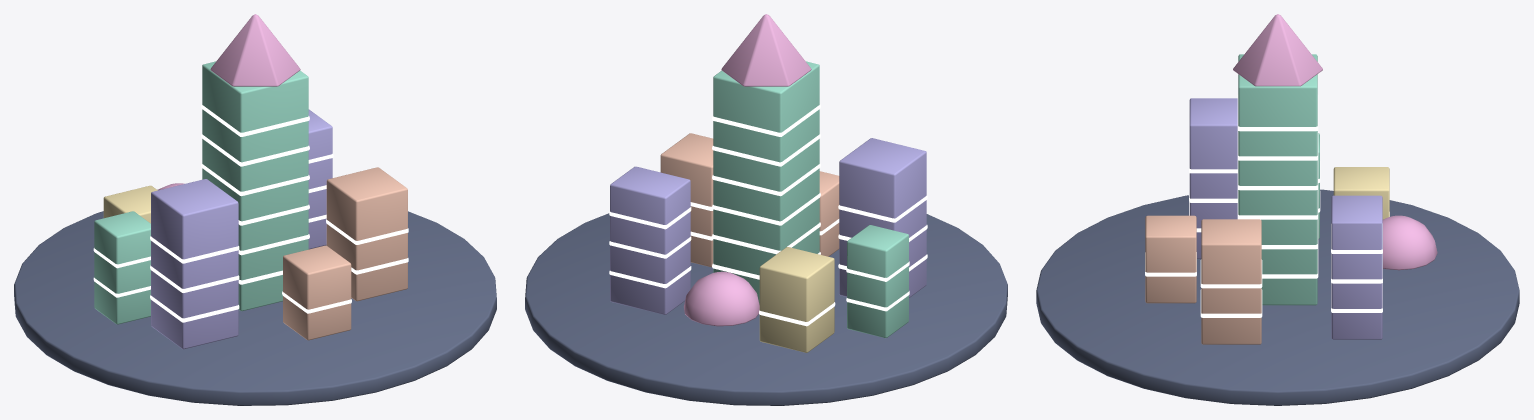
The model's file is campus.glb.
3 renders of one model, left to right at view 1: azimuth 30°, elevation 25°; view 2: azimuth 150°, elevation 25°; view 3: azimuth 270°, elevation 25°, orthographic.
Parts seen in each view (by area): view 1: Campus; view 2: Campus; view 3: Campus.
Part boxes in pixels (box(x1,y1,x2,y2)): Campus: box(14, 14, 496, 405); Campus: box(525, 14, 1007, 405); Campus: box(1036, 14, 1519, 405).
Size of the model in its own units: 5.2 by 3.45 by 5.2.
